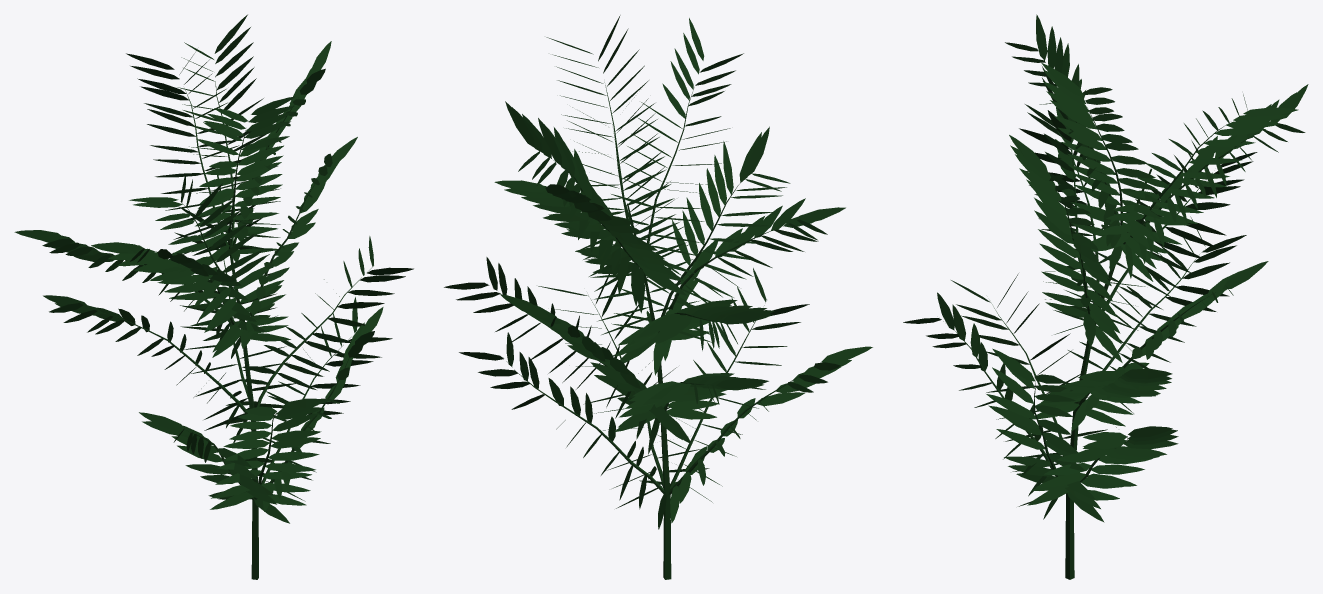
File: fern2.obj
The picture shows the model from 3 angles, left to right: view 1: azimuth 30°, elevation 25°; view 2: azimuth 150°, elevation 25°; view 3: azimuth 270°, elevation 25°; orthographic projection. The views are drawn at different scales.
Visible parts, largest first — view 1: fern2; view 2: fern2; view 3: fern2.
Part boxes in pixels (x1=…): fern2: x1=14, y1=14, x2=413, y2=579; fern2: x1=444, y1=15, x2=872, y2=579; fern2: x1=903, y1=14, x2=1308, y2=579.
Bounding box in the file's own units: 26.94 × 40.37 × 27.25.
